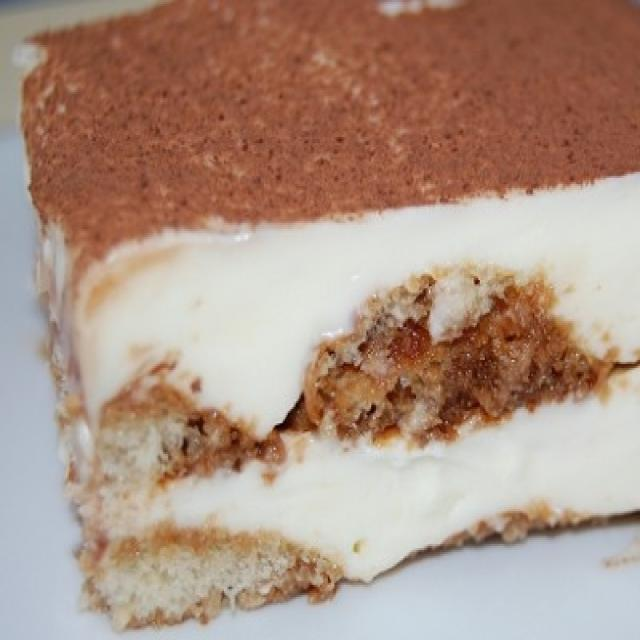蛋糕甜品: (16, 12, 635, 612)
